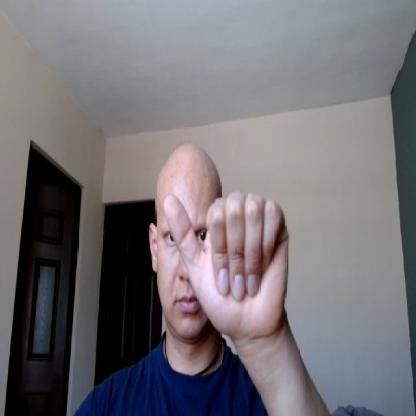A: (163, 190, 290, 340)
